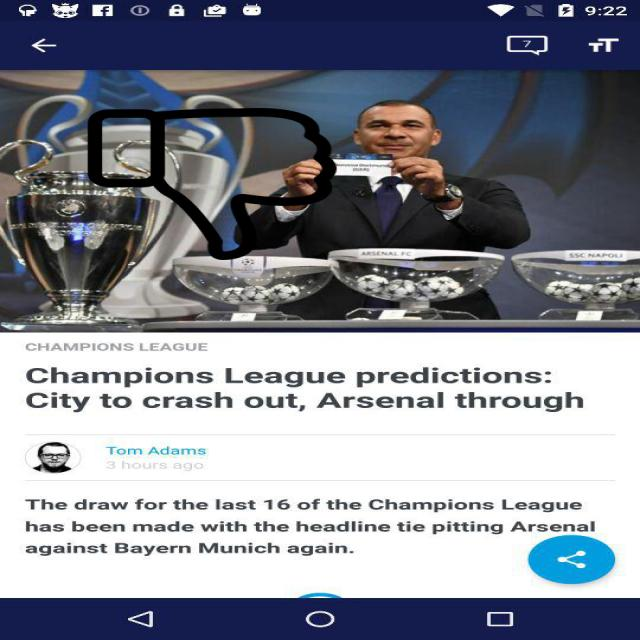obstruction: (84, 108, 340, 260)
